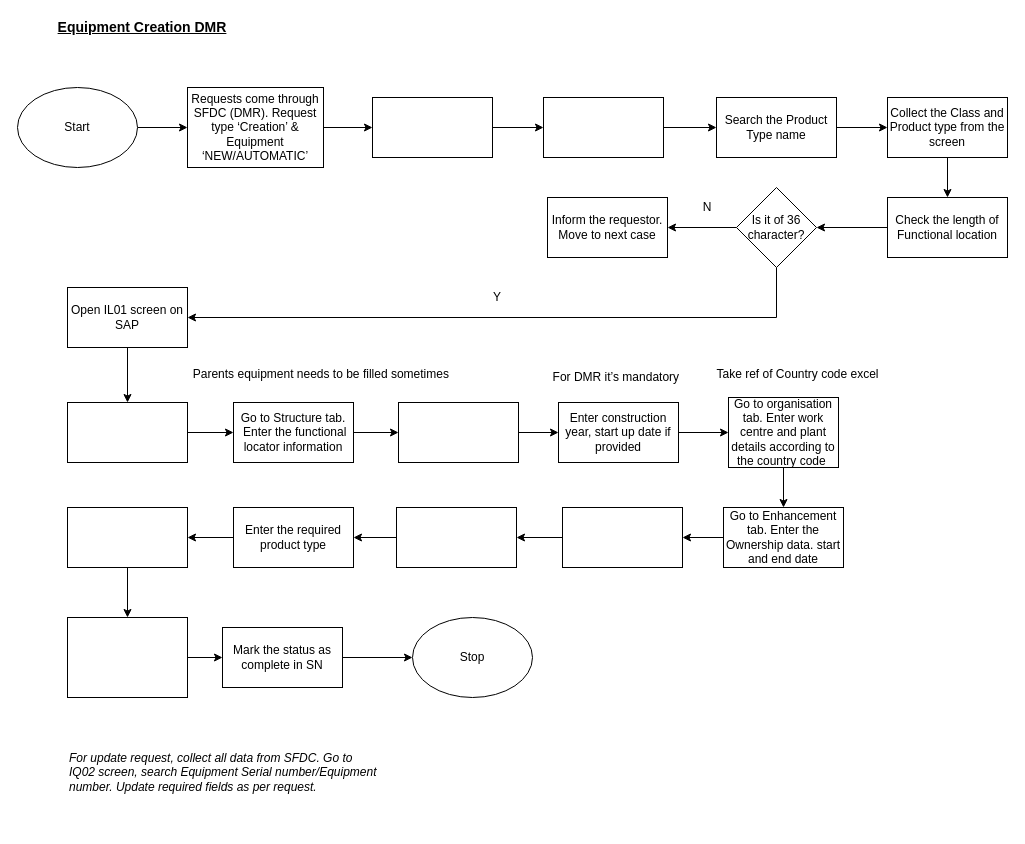
The diagram is 1025 pixels wide and 844 high, and some of its shapes have lost their labels. Each missing label, with the box of its shape:
Collect all the data provided in data change field.: (372, 96, 492, 158)
Enter the collected Class under Assessment > Class: (396, 506, 516, 568)
Execute and move to General Data screen: (66, 402, 188, 462)
Go to CL6AN screen on SAP: (542, 96, 664, 158)
Go to class overview screen: (562, 506, 682, 568)
Go to General tab and fill all the mandatory data: (398, 402, 518, 462)
Save the request. Collected the Equipment number: (66, 506, 188, 568)
Update the Equipment number in comment field: (66, 616, 188, 698)
